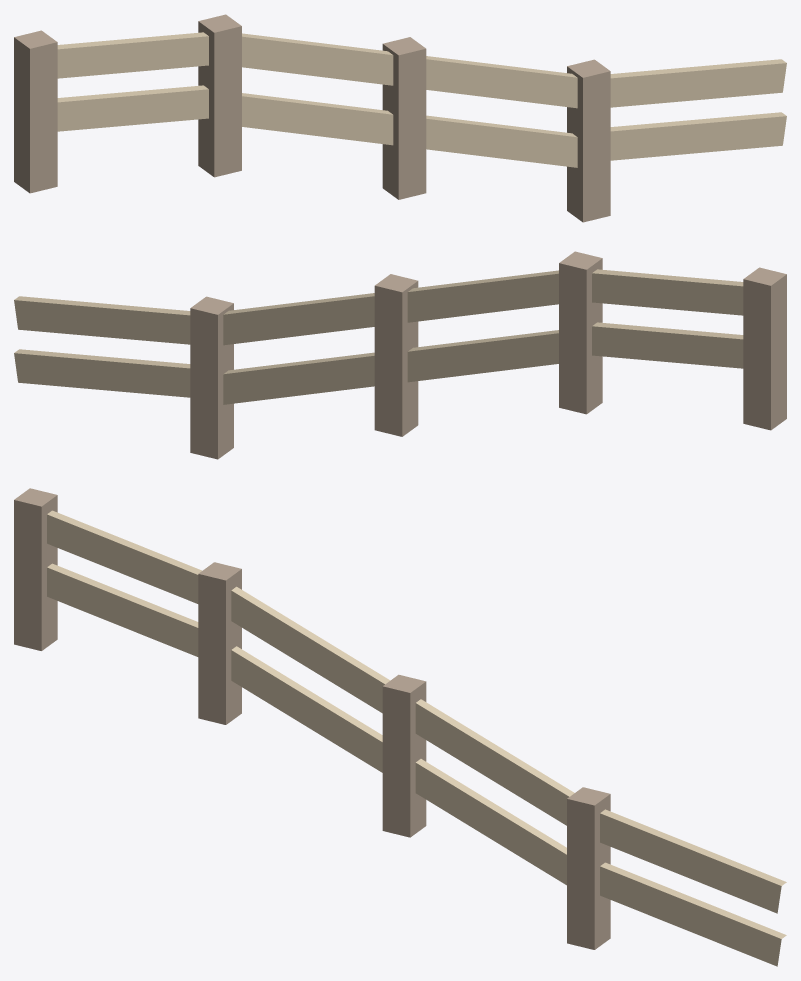
Rendered from Hilly_Prop_Fence_Hill_Gentle.glb.
3 views of the same model, one above another, from view 1: azimuth 30°, elevation 25°; view 2: azimuth 150°, elevation 25°; view 3: azimuth 330°, elevation 25° (orthographic).
Parts seen in each view (by area): view 1: Hilly_Prop_Fence_Hill_Gentle; view 2: Hilly_Prop_Fence_Hill_Gentle; view 3: Hilly_Prop_Fence_Hill_Gentle.
Boxes of the visible parts, bbox=[...] form: Hilly_Prop_Fence_Hill_Gentle: bbox=[14, 14, 786, 222]; Hilly_Prop_Fence_Hill_Gentle: bbox=[14, 251, 786, 459]; Hilly_Prop_Fence_Hill_Gentle: bbox=[14, 488, 786, 966].
Bounding box in the file's own units: 4.14 × 1.6 × 0.15.
